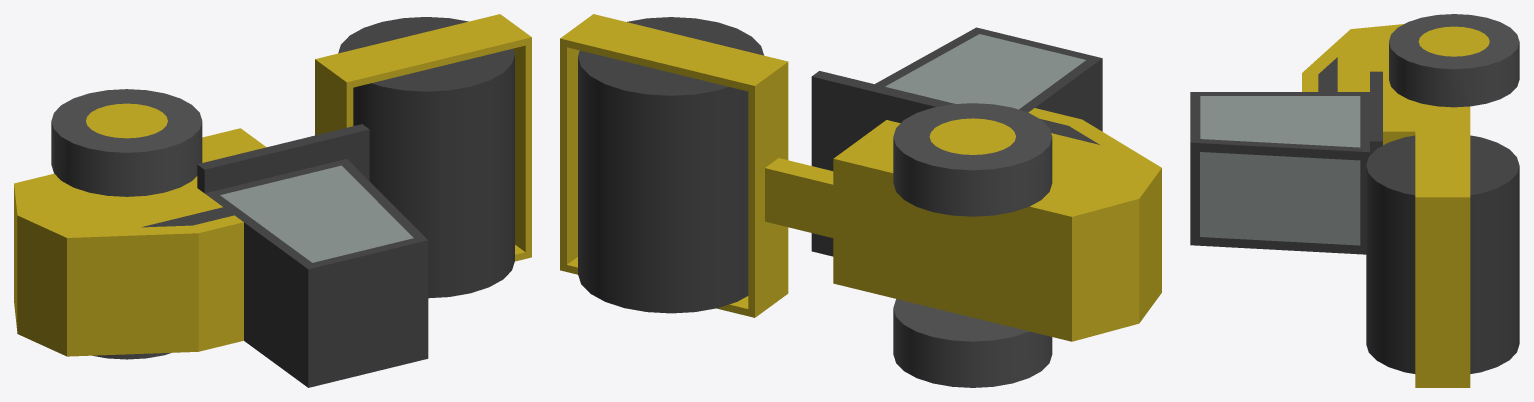
Rendered from asphalt_compactor.dae.
3 views of the same model, side by side, from view 1: azimuth 30°, elevation 25°; view 2: azimuth 150°, elevation 25°; view 3: azimuth 270°, elevation 25° (orthographic). The views are drawn at different scales.
Parts seen in each view (by area): view 1: coords_ME_ID11_MA___auto_7, coords_ME_ID39_MA___auto_, coords_ME_ID25_MA___auto_, coords_ME_ID3_MA_material, coords_ME_ID45_MA___auto_7, coords_ME_ID83_MA___auto_8, coords_ME_ID33_MA___auto_7, coords_ME_ID51_MA___auto_7; view 2: coords_ME_ID11_MA___auto_7, coords_ME_ID25_MA___auto_, coords_ME_ID45_MA___auto_7, coords_ME_ID3_MA_material, coords_ME_ID39_MA___auto_, coords_ME_ID19_MA_material, coords_ME_ID83_MA___auto_8, coords_ME_ID51_MA___auto_7, coords_ME_ID33_MA___auto_7; view 3: coords_ME_ID25_MA___auto_, coords_ME_ID45_MA___auto_7, coords_ME_ID63_MA___auto_8, coords_ME_ID3_MA_material, coords_ME_ID39_MA___auto_, coords_ME_ID83_MA___auto_8, coords_ME_ID11_MA___auto_7, coords_ME_ID51_MA___auto_7.
Boxes of the visible parts, bbox=[...] form: coords_ME_ID11_MA___auto_7: bbox=[14, 128, 266, 356]; coords_ME_ID39_MA___auto_: bbox=[141, 124, 428, 387]; coords_ME_ID25_MA___auto_: bbox=[338, 17, 514, 298]; coords_ME_ID3_MA_material: bbox=[51, 89, 202, 196]; coords_ME_ID45_MA___auto_7: bbox=[315, 14, 531, 261]; coords_ME_ID83_MA___auto_8: bbox=[220, 165, 413, 262]; coords_ME_ID33_MA___auto_7: bbox=[513, 45, 525, 254]; coords_ME_ID51_MA___auto_7: bbox=[86, 103, 167, 138]; coords_ME_ID11_MA___auto_7: bbox=[765, 108, 1161, 341]; coords_ME_ID25_MA___auto_: bbox=[578, 17, 763, 313]; coords_ME_ID45_MA___auto_7: bbox=[560, 14, 788, 317]; coords_ME_ID3_MA_material: bbox=[893, 103, 1052, 216]; coords_ME_ID39_MA___auto_: bbox=[811, 27, 1102, 256]; coords_ME_ID19_MA_material: bbox=[893, 299, 1052, 387]; coords_ME_ID83_MA___auto_8: bbox=[885, 34, 1085, 109]; coords_ME_ID51_MA___auto_7: bbox=[929, 118, 1015, 154]; coords_ME_ID33_MA___auto_7: bbox=[567, 47, 579, 267]; coords_ME_ID25_MA___auto_: bbox=[1366, 135, 1519, 373]; coords_ME_ID45_MA___auto_7: bbox=[1415, 119, 1470, 387]; coords_ME_ID63_MA___auto_8: bbox=[1200, 152, 1360, 245]; coords_ME_ID3_MA_material: bbox=[1389, 14, 1519, 107]; coords_ME_ID39_MA___auto_: bbox=[1190, 57, 1382, 254]; coords_ME_ID83_MA___auto_8: bbox=[1200, 96, 1360, 147]; coords_ME_ID11_MA___auto_7: bbox=[1302, 24, 1470, 145]; coords_ME_ID51_MA___auto_7: bbox=[1418, 26, 1489, 56].
Size of the model in its own units: 54.83 by 22.34 by 34.96.
